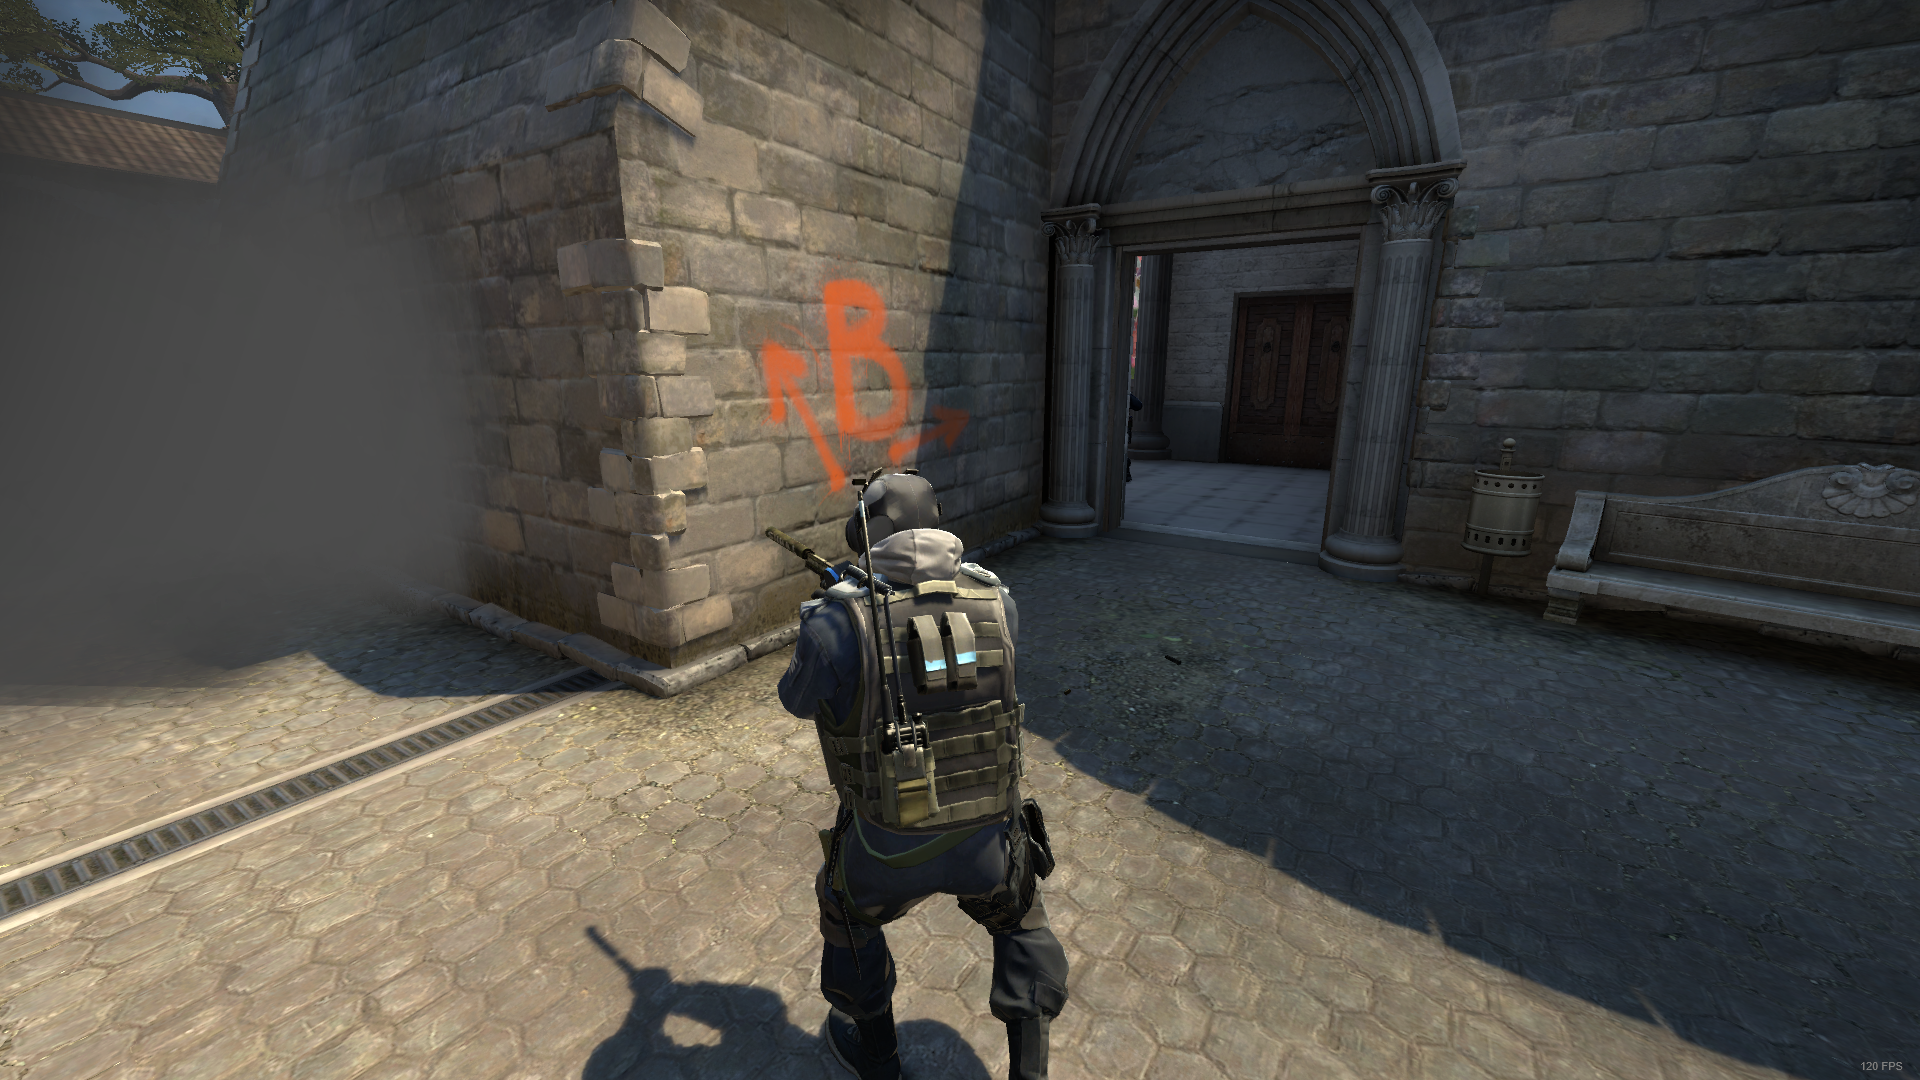ct: (760, 467, 1077, 1080)
